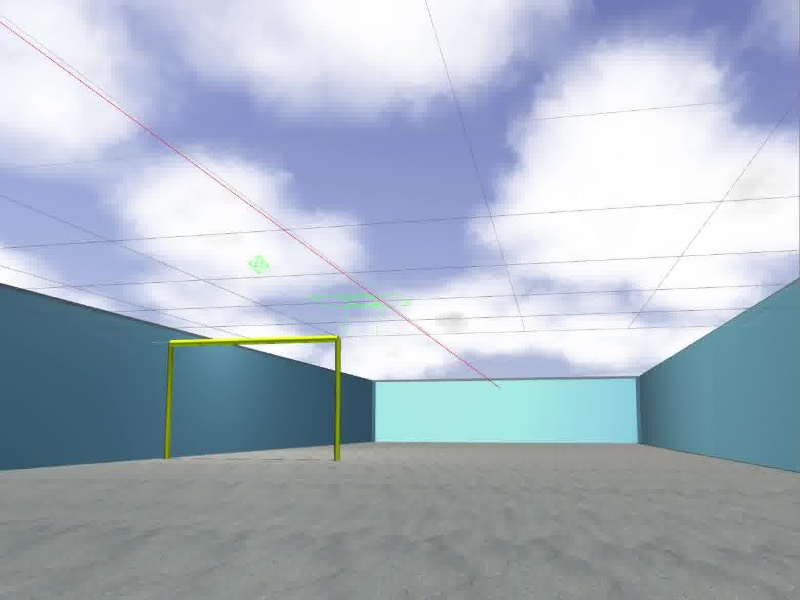gate: (163, 335, 343, 462)
